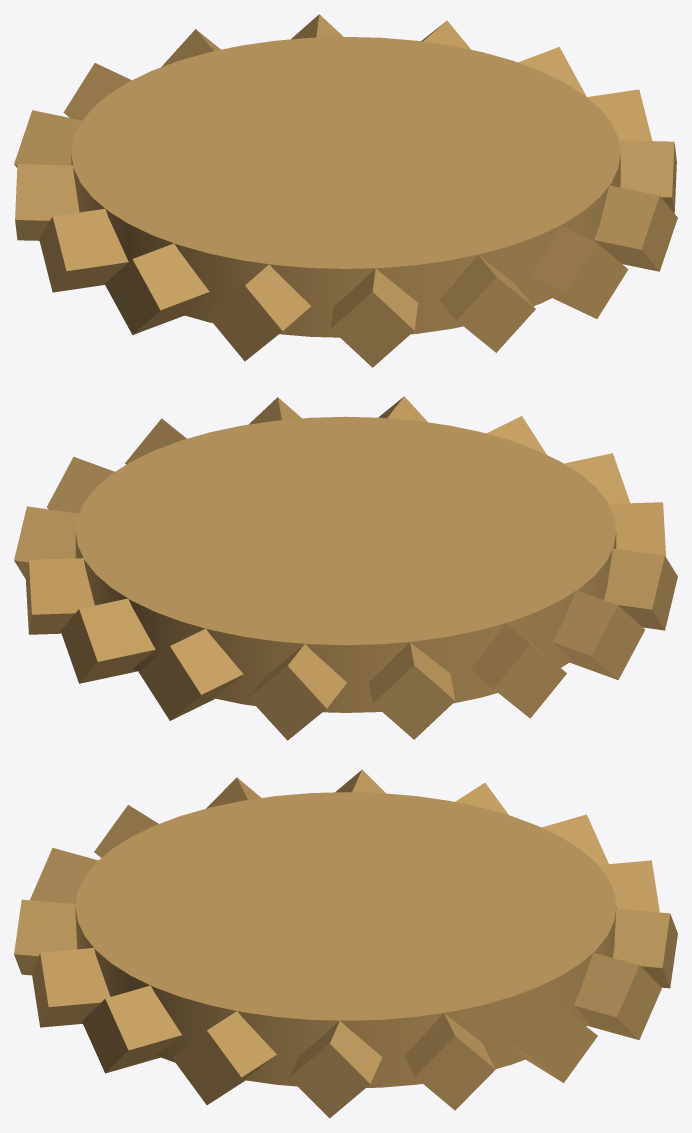
The model's file is Traveller.glb.
3 renders of one model, top to bottom at view 1: azimuth 30°, elevation 25°; view 2: azimuth 150°, elevation 25°; view 3: azimuth 270°, elevation 25°, orthographic.
Parts seen in each view (by area): view 1: Ratchet hub, Ratchet tooth (×16); view 2: Ratchet hub, Ratchet tooth (×16); view 3: Ratchet hub, Ratchet tooth (×16).
Boxes of the visible parts, x1,y1,x2,y2 form: Ratchet hub: (71, 37, 620, 337); Ratchet tooth (×16): (14, 14, 677, 367); Ratchet hub: (75, 416, 616, 712); Ratchet tooth (×16): (14, 396, 677, 740); Ratchet hub: (75, 792, 616, 1087); Ratchet tooth (×16): (14, 769, 677, 1118).
Bounding box in the file's own units: 0.4172 × 0.052 × 0.4172.
